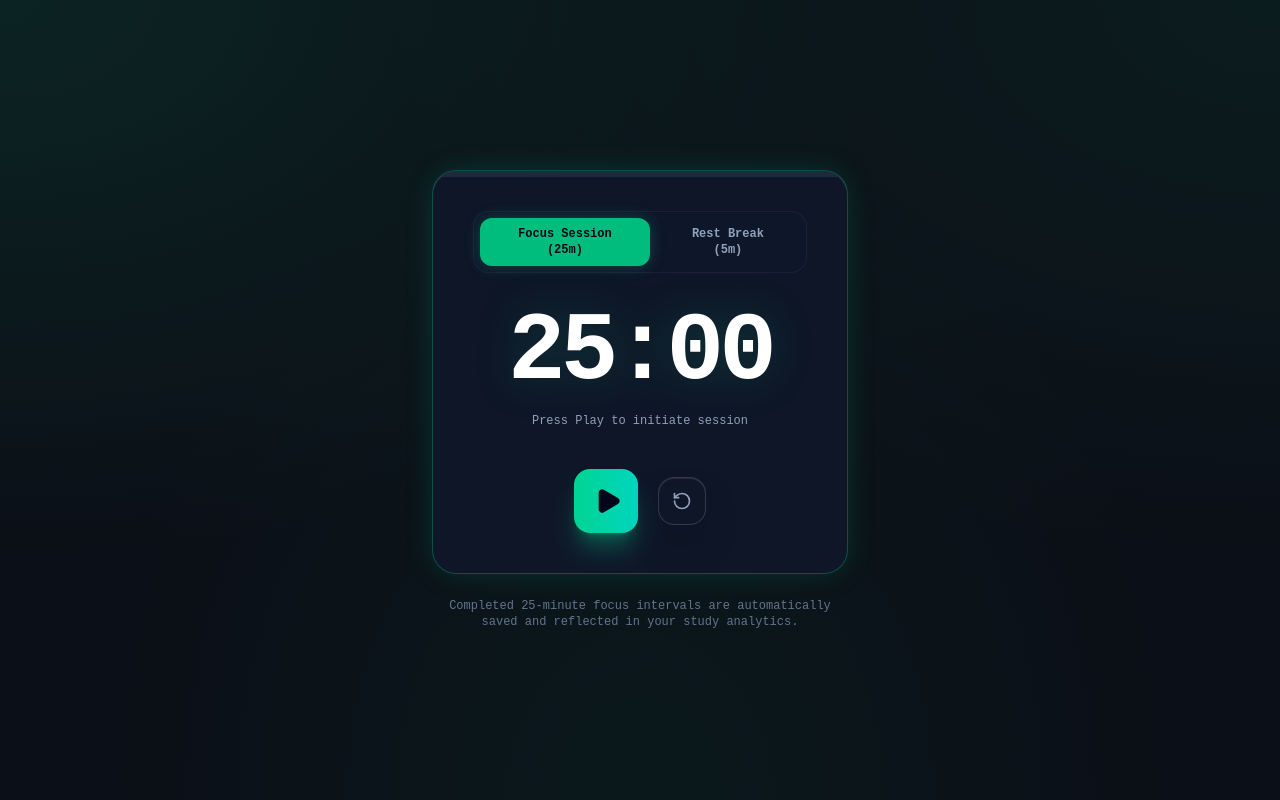
Test: API client pilot callers › keeps Timer non-OK feedback distinct from a network failure
Click the 3rd button at coordinates (606, 501), box [574,469,638,533]
Wait 500 ms
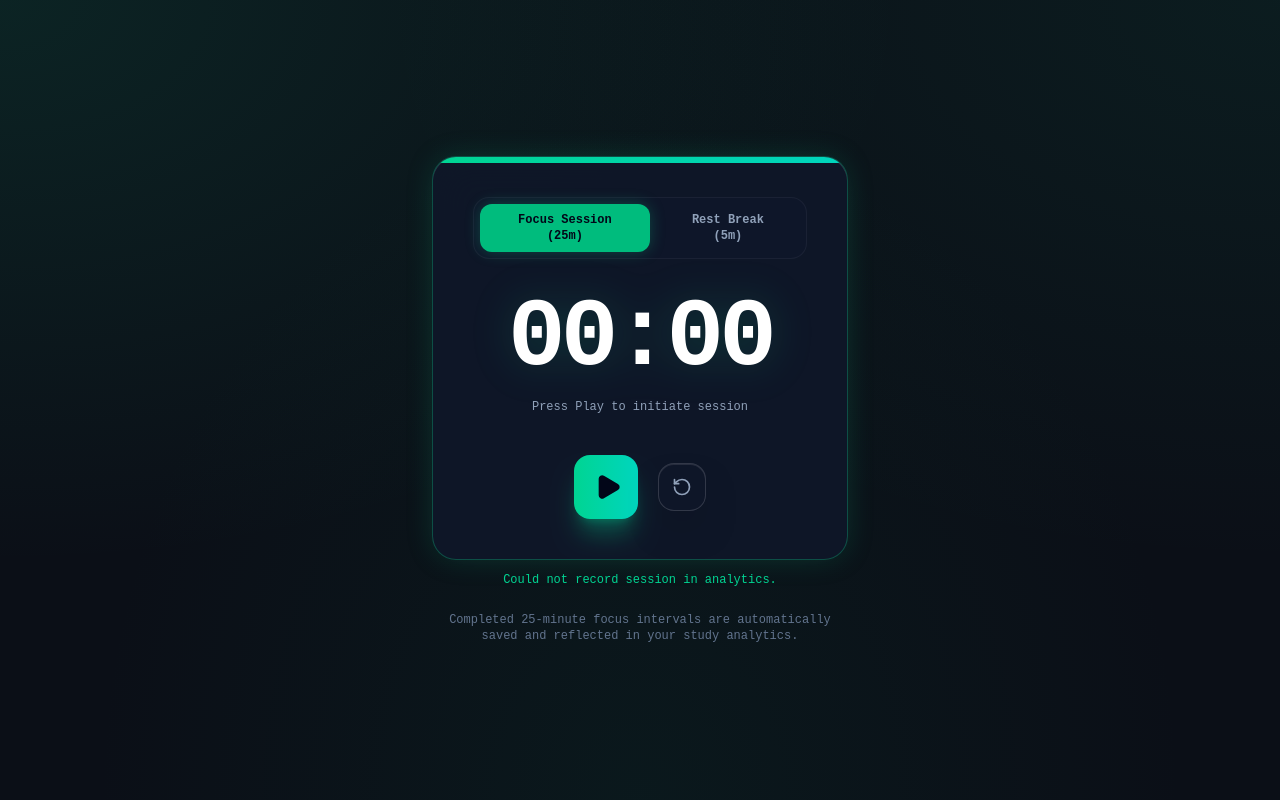
Result: the text "Could not record session in analytics." is shown at [503,573,777,587]
